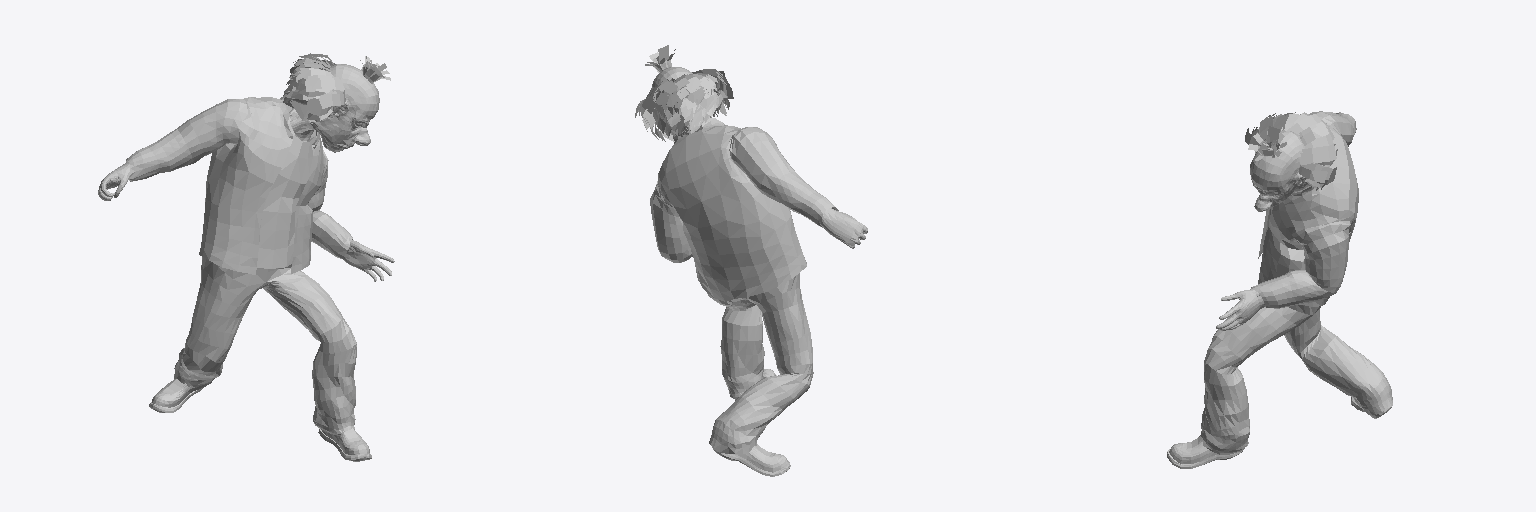
The model's file is Hit (15).obj.
3 views of the same model, side by side, from view 1: azimuth 30°, elevation 25°; view 2: azimuth 150°, elevation 25°; view 3: azimuth 270°, elevation 25° (orthographic).
Visible parts, largest first — view 1: jacket, pants_low, shirt, hair, head, hand_left, boots_02, boots_01, hand_right; view 2: jacket, pants_low, hair, boots_01, hand_right; view 3: pants_low, jacket, hair, head, boots_02, hand_left.
Part boxes in pixels (x1,y1,x2,y2): jacket: (126,97,352,274); pants_low: (174,257,356,435); shirt: (257,109,315,268); hair: (280,53,390,120); head: (308,64,379,152); hand_left: (343,240,394,281); boots_02: (318,427,371,461); boots_01: (149,378,202,412); hand_right: (98,162,129,200); jacket: (650,117,838,301); pants_low: (707,273,813,453); hair: (635,45,733,141); boots_01: (713,444,790,476); hand_right: (819,208,867,248); pants_low: (1199,305,1392,454); jacket: (1250,111,1358,308); hair: (1245,112,1337,190); head: (1250,130,1306,211); boots_02: (1167,437,1242,468); hand_left: (1216,290,1265,330).
Size of the model in its own units: 120 by 163 by 92.62.